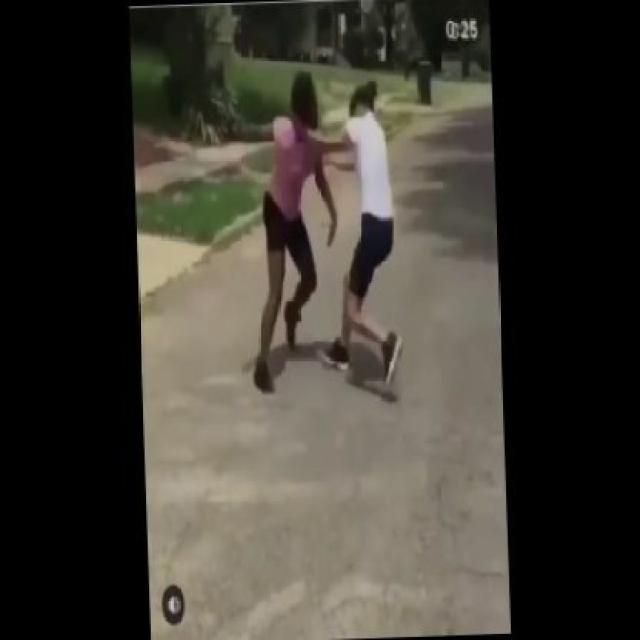fight: (248, 68, 404, 404)
